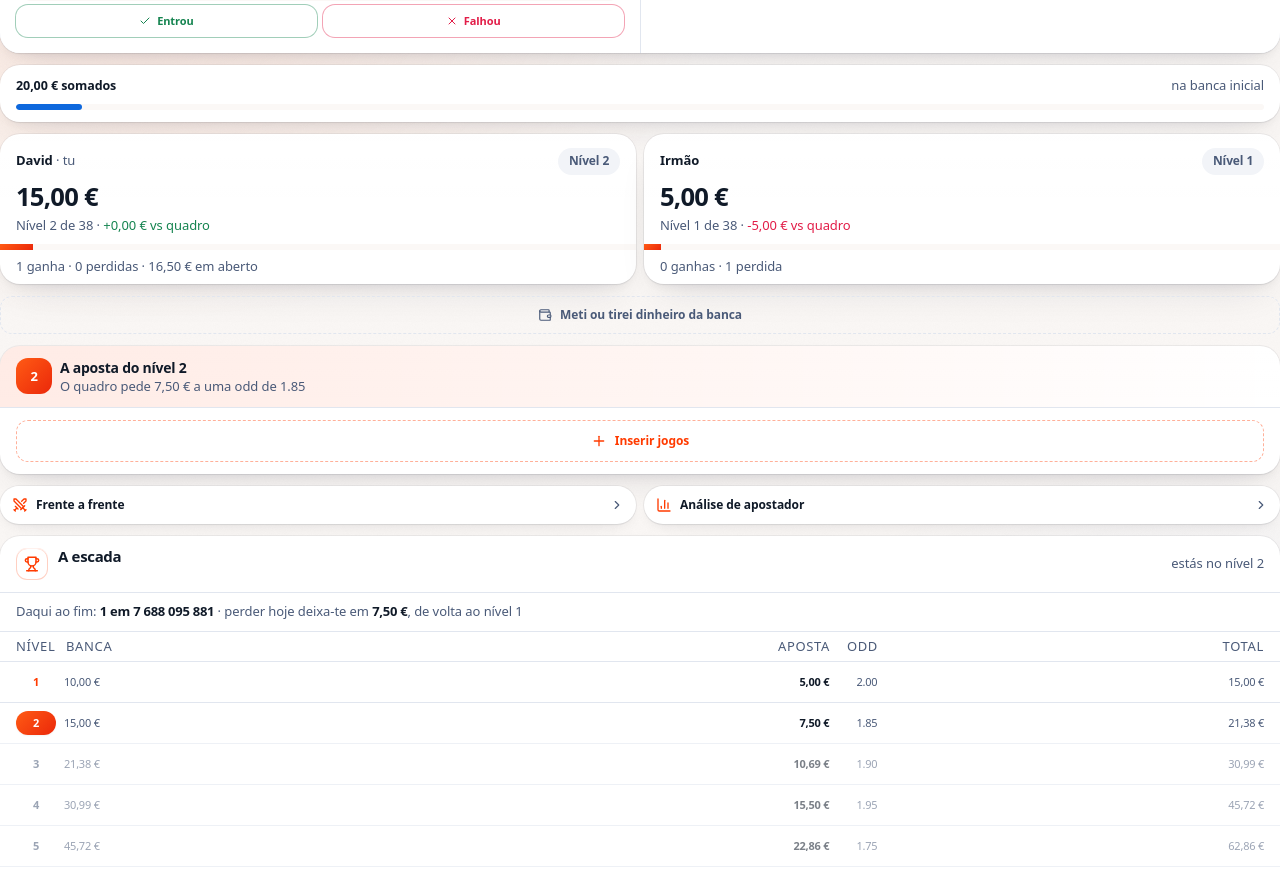
Test: building the day's bet › shows every competition on the board, not just the best-ranked games
This screenshot has width=1280, height=880.
(page scrolled)
Click the button "Inserir jogos" at [640, 441], box [16,420,1264,462]
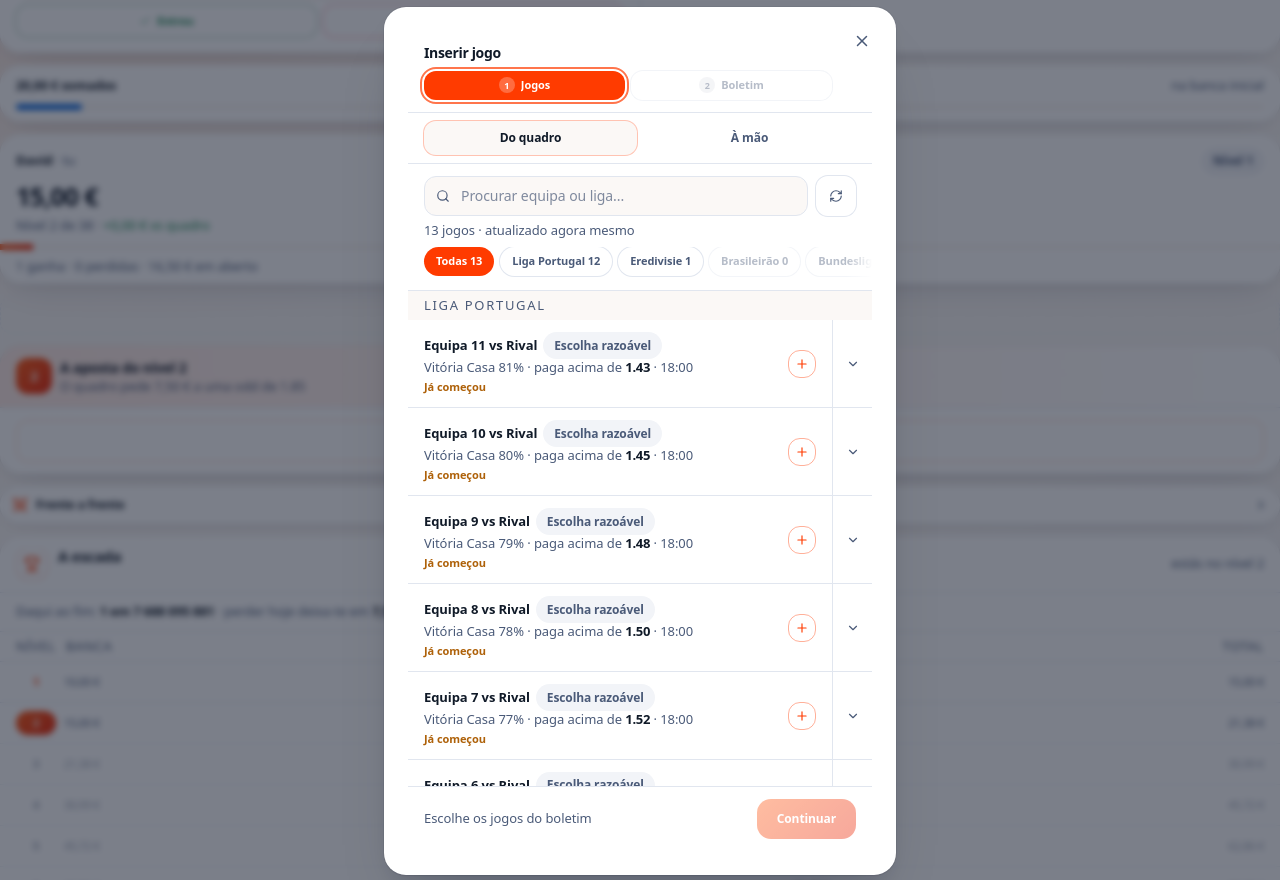
Click the button with aria-label "Eredivisie, 1 jogo" at [661, 261], box [618,247,703,276]
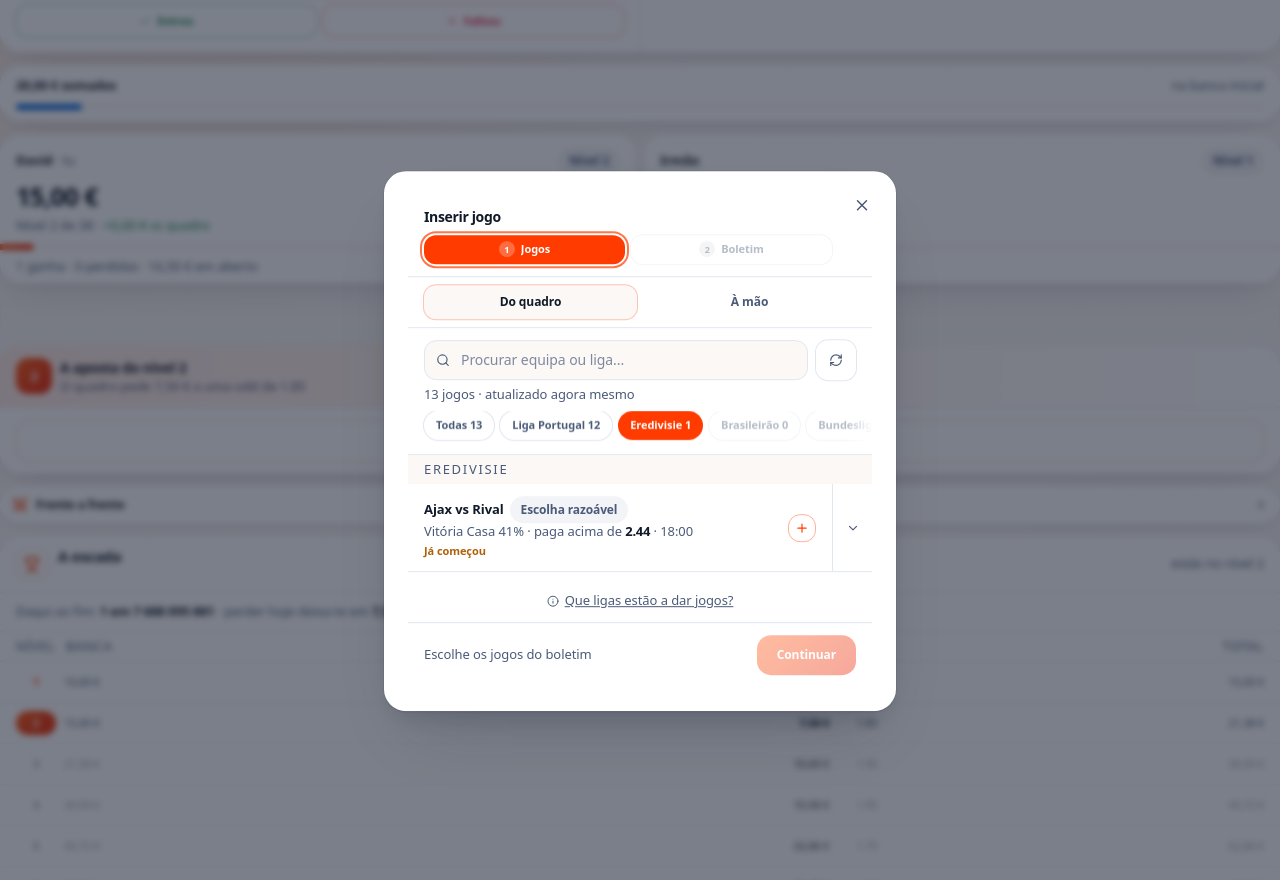
Expected: the text "Ajax vs Rival" is shown, [424,500,504,520]
